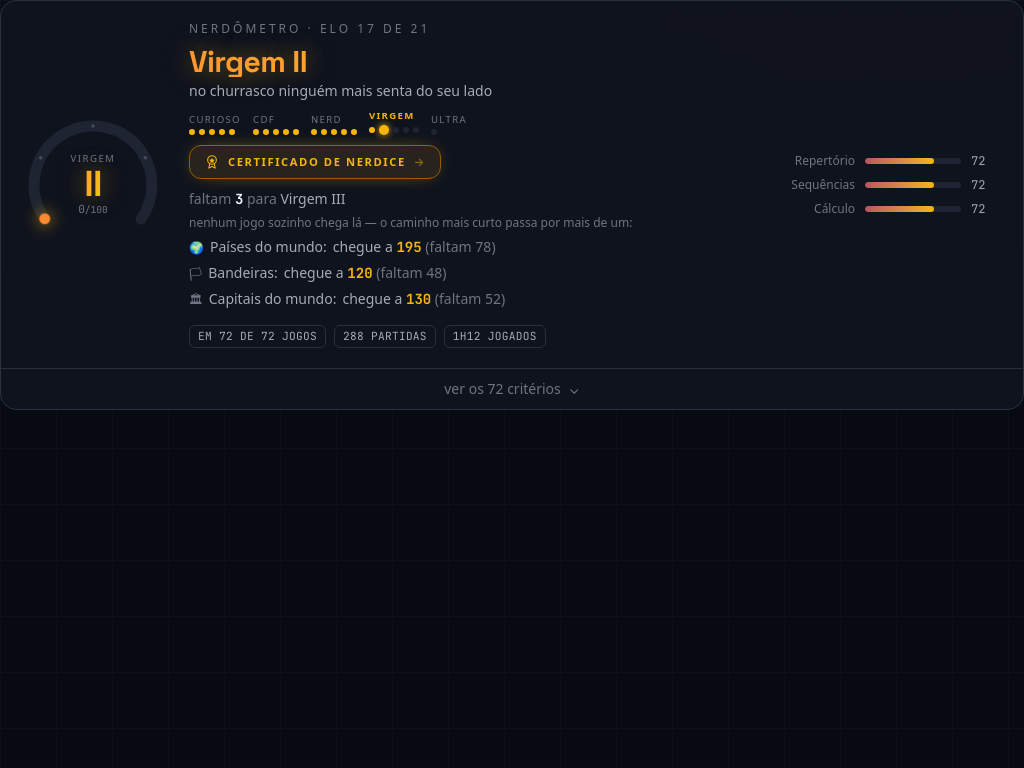
o certificado › o nome digitado vai para a folha e fica guardado para a próxima vez
Click the button "certificado de nerdice →" at coordinates (315, 162), box top-left (189, 145), bottom-right (441, 179)
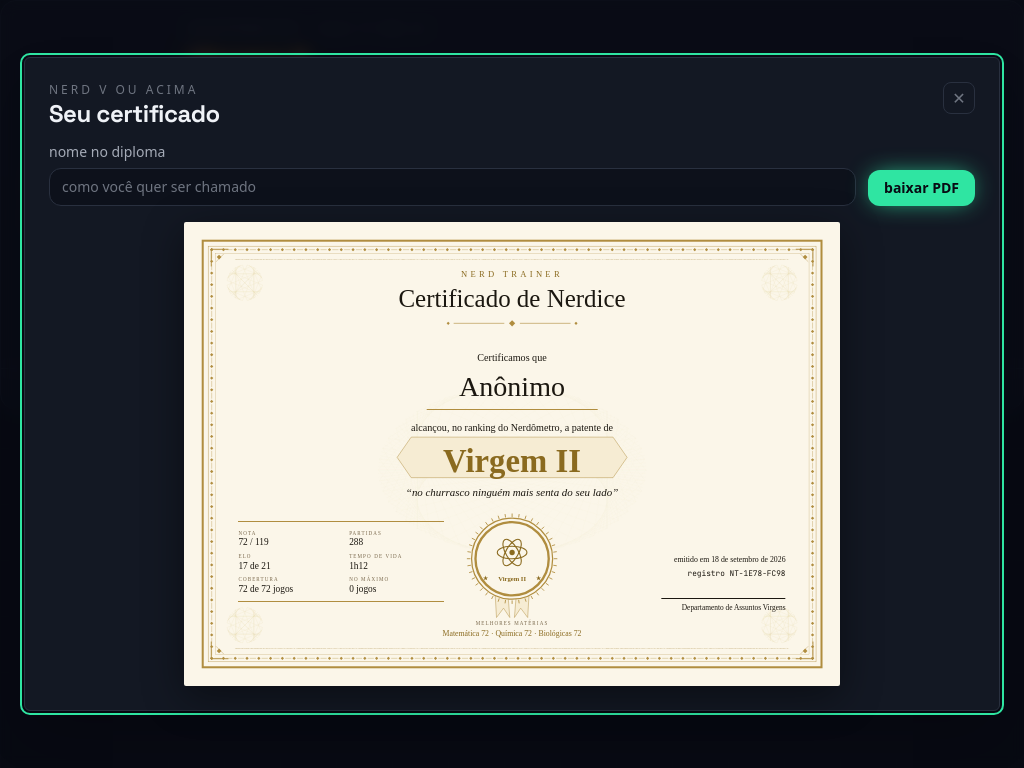
Type "Jão" into the field with placeholder "como você quer ser chamado" at coordinates (452, 187), box top-left (49, 168), bottom-right (856, 206)
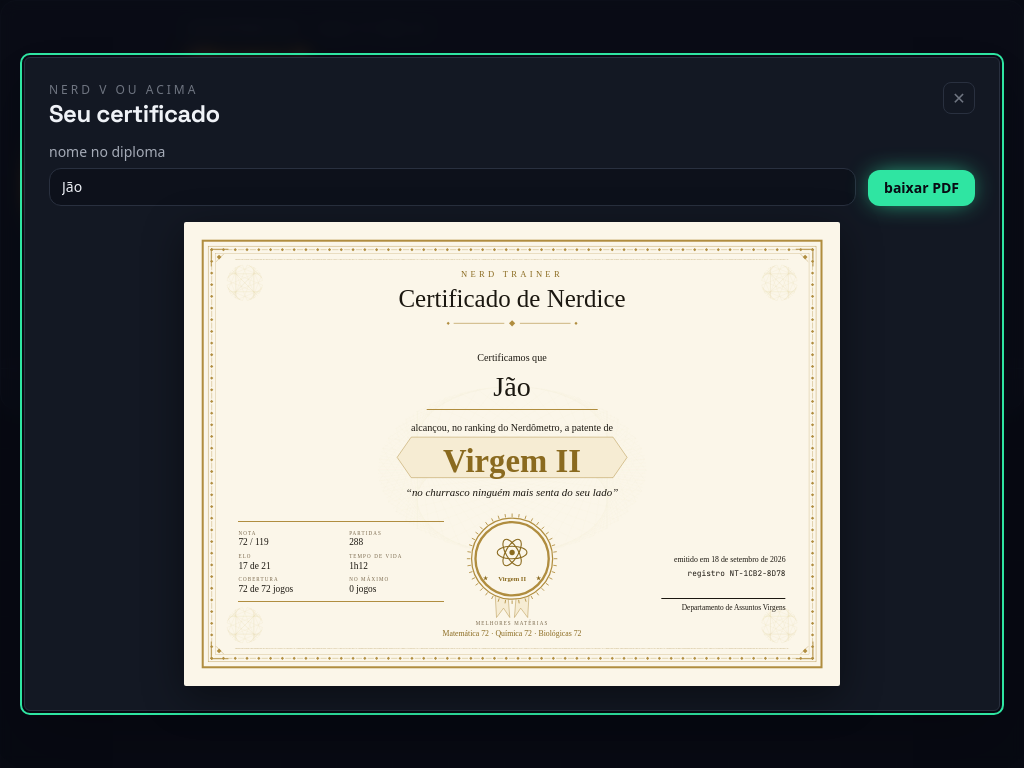
Result: the text "Jão" is shown at top-left (493, 373), bottom-right (531, 401)
